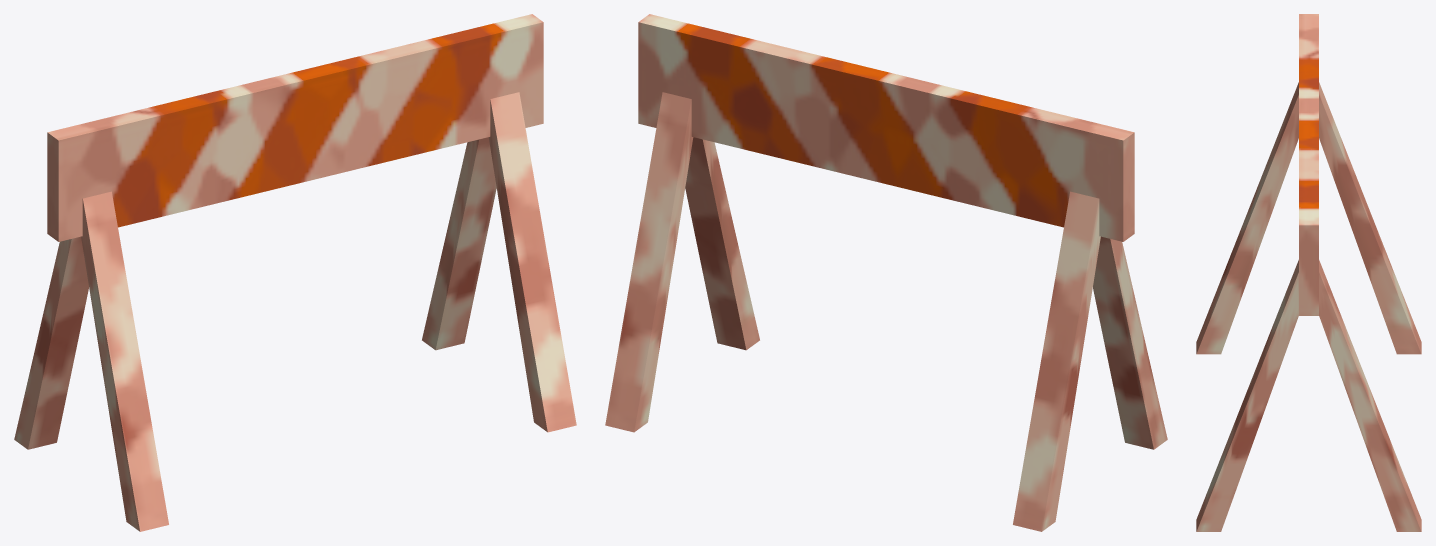
The model's file is RoadBarrier.fbx.
The picture shows the model from 3 angles, left to right: view 1: azimuth 30°, elevation 25°; view 2: azimuth 150°, elevation 25°; view 3: azimuth 270°, elevation 25°; orthographic projection. The views are drawn at different scales.
Parts seen in each view (by area): view 1: RoadBarrier; view 2: RoadBarrier; view 3: RoadBarrier.
Boxes of the visible parts, box(x1,y1,x2,y2) form: RoadBarrier: box(14, 14, 576, 531); RoadBarrier: box(605, 14, 1167, 531); RoadBarrier: box(1196, 14, 1421, 531).
Bounding box in the file's own units: 200 × 140 × 90.
